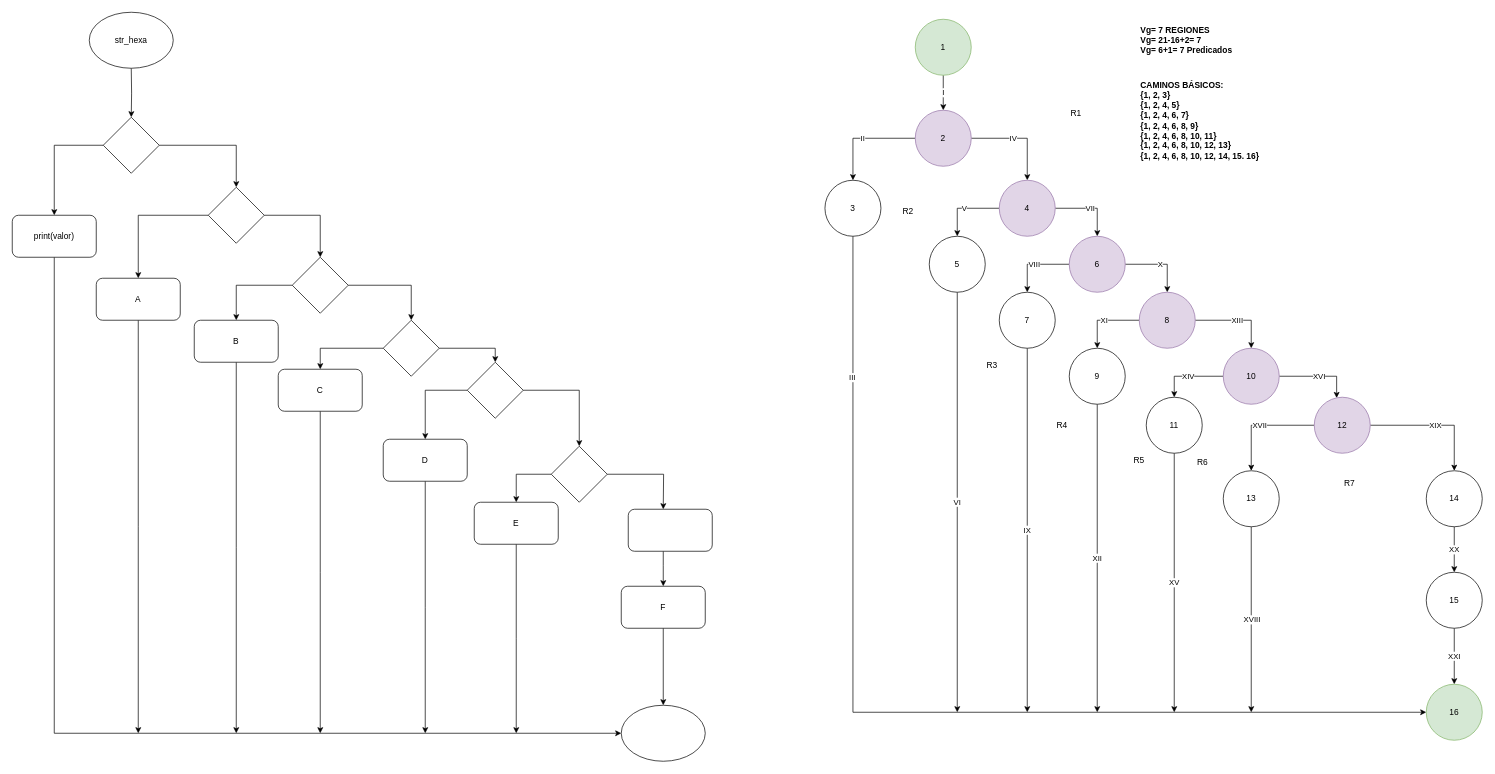
Image size: 1495x774. Some labels were removed from this diagram. The shapes that lost their labels are listed below. From the top down, each one's box as (x1, y1, x2, y2) in pixels, then its label:
(103, 117, 159, 173): if valor< 10
(208, 187, 264, 243): elif == 10
(292, 257, 348, 313): elif ==11
(383, 320, 439, 376): elif == 12
(467, 362, 523, 418): elif==13
(551, 446, 607, 502): elif ==14
(628, 509, 712, 551): elif ==15
(621, 705, 705, 761): FIN
